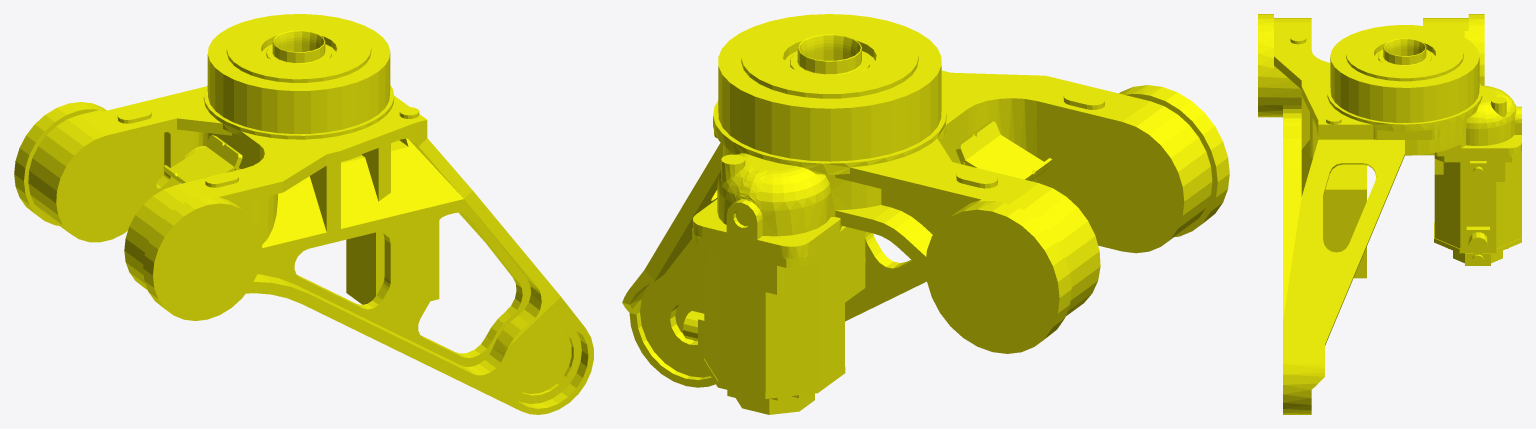
3 renders of one model, left to right at view 1: azimuth 30°, elevation 25°; view 2: azimuth 150°, elevation 25°; view 3: azimuth 270°, elevation 25°, orthographic. The views are drawn at different scales.
Parts seen in each view (by area): view 1: node; view 2: node; view 3: node.
Boxes of the visible parts, left/top/right/bottom form: node: left=14, top=14, right=593, bottom=414; node: left=622, top=14, right=1229, bottom=414; node: left=1258, top=14, right=1521, bottom=414.
Size of the model in its own units: 642 by 484 by 394.
